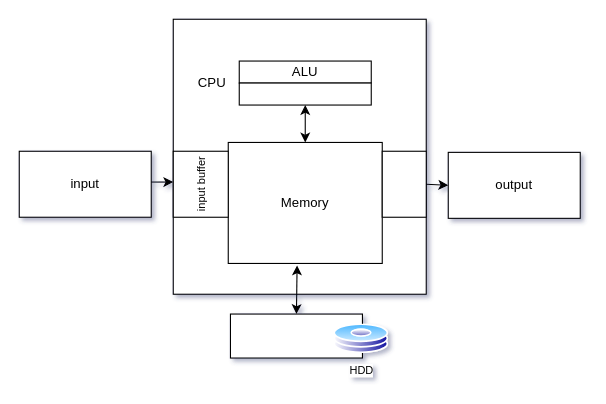
Image size: 606x404. Some labels were removed from this diagram. Here are the shapes that lost their labels. From the top down, the box of each, then its label:
(238, 82, 371, 105): CU
(381, 150, 426, 217): output buffer
(229, 313, 362, 358): File
